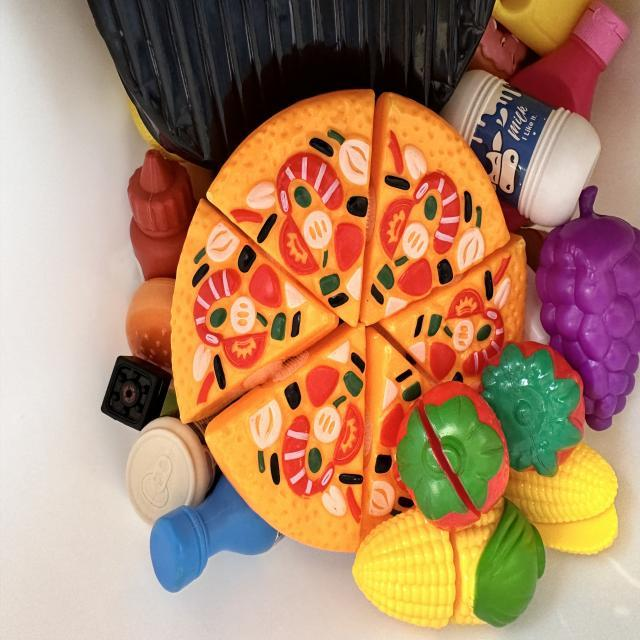hidden camera: (122, 384, 137, 403)
